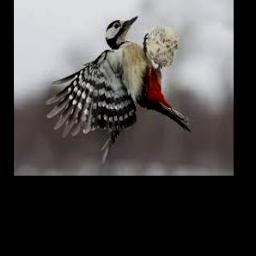Woodpecker: (46, 16, 192, 162)
